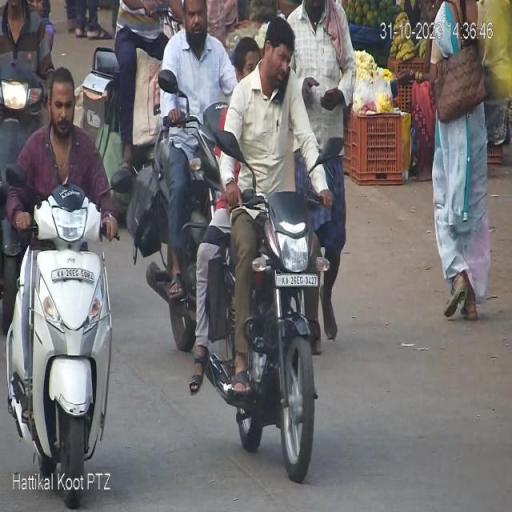numberplate: (276, 270, 320, 287)
using mobile: (263, 57, 294, 115)
